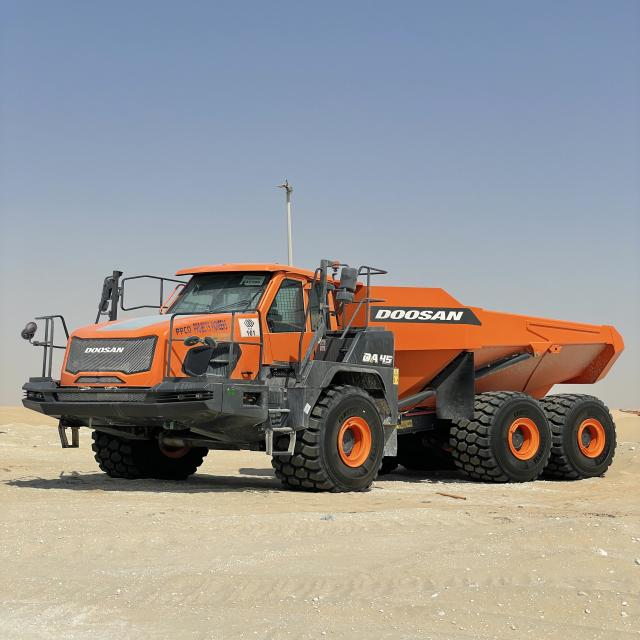dump_truck: (18, 254, 630, 498)
